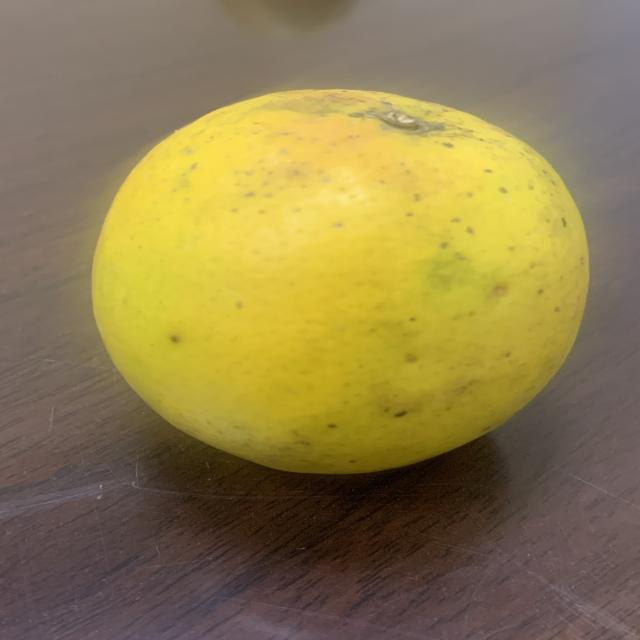Ripe orange: (76, 81, 591, 490)
